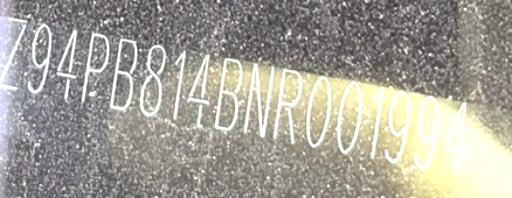letter: (240, 62, 278, 136), (210, 56, 244, 130), (106, 38, 140, 110), (270, 67, 302, 141), (303, 73, 335, 147), (440, 97, 470, 174), (136, 44, 168, 115), (0, 17, 30, 92), (409, 94, 439, 168), (52, 29, 82, 101), (78, 33, 110, 100), (383, 89, 411, 161), (185, 52, 213, 124), (26, 23, 54, 94), (335, 80, 361, 152), (361, 85, 387, 157), (168, 48, 190, 121)
